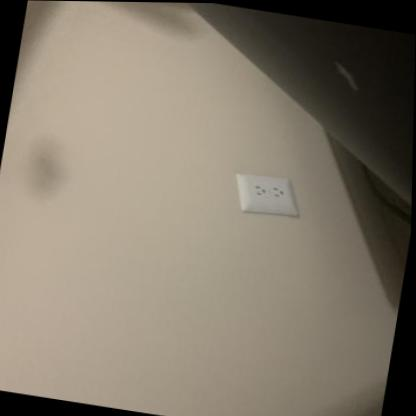OUTLET: (231, 171, 304, 216)
